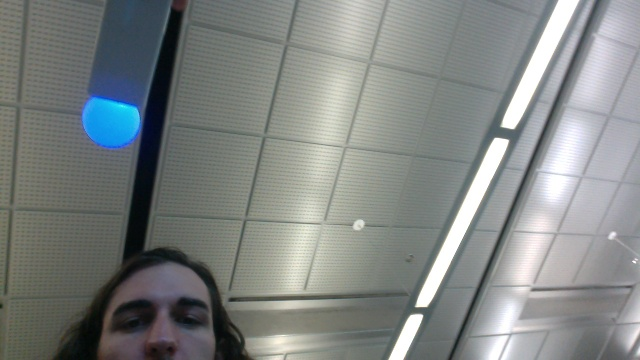wand: (82, 95, 141, 148)
